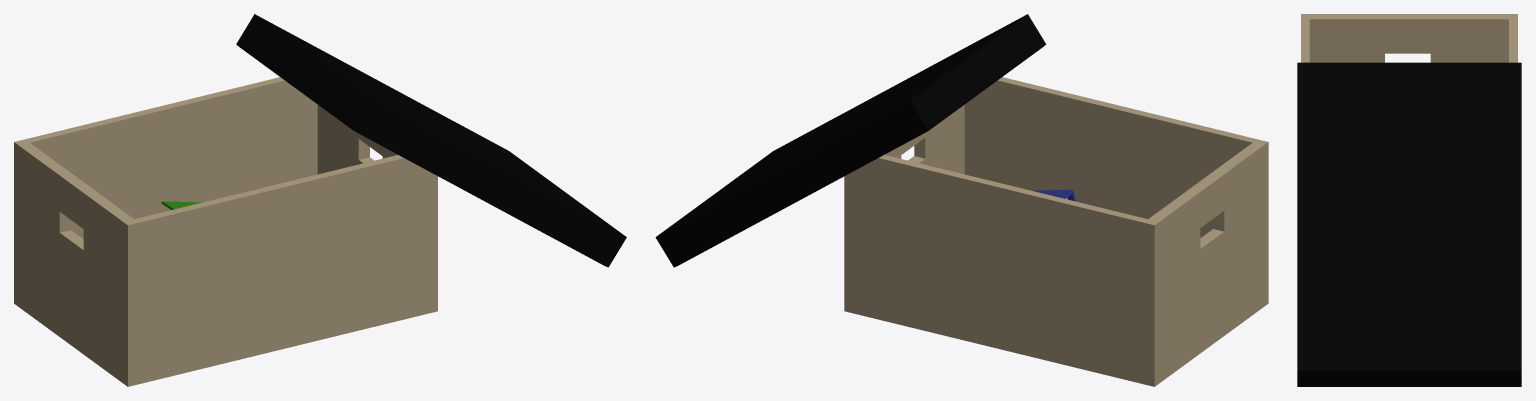
The picture shows the model from 3 angles, left to right: view 1: azimuth 30°, elevation 25°; view 2: azimuth 150°, elevation 25°; view 3: azimuth 270°, elevation 25°; orthographic projection. The views are drawn at different scales.
Parts seen in each view (by area): view 1: P_Box; view 2: P_Box; view 3: P_Box.
Part boxes in pixels (<box>): P_Box: <box>14,14,626,386</box>; P_Box: <box>655,14,1268,386</box>; P_Box: <box>1297,14,1521,386</box>.
Size of the model in its own units: 815 by 335 by 359.
